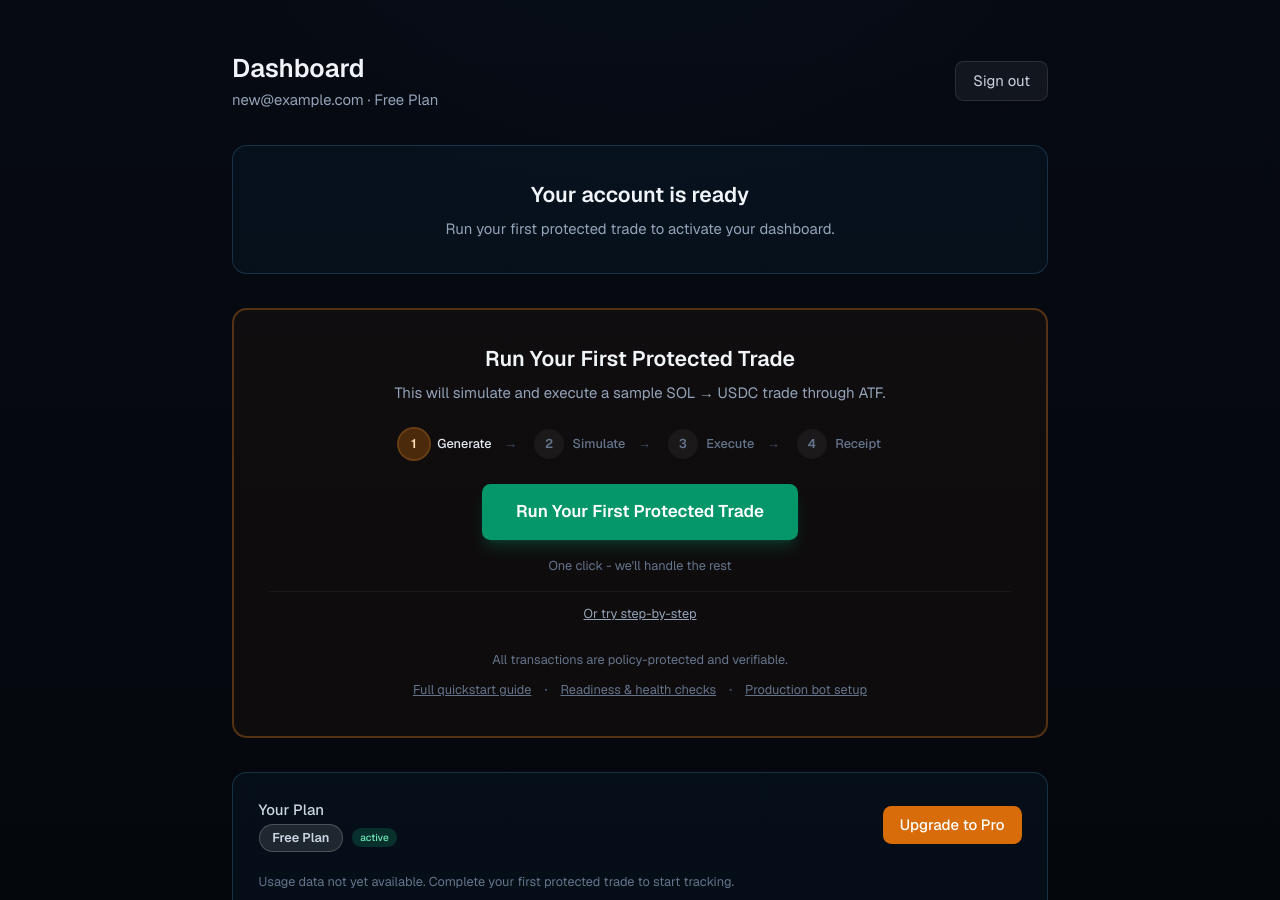
Scenario: First-use UX — error mapping › shows classified rate-limit error
Click the button with test id "generate-btn" at (640, 614), box [584, 605, 696, 622]
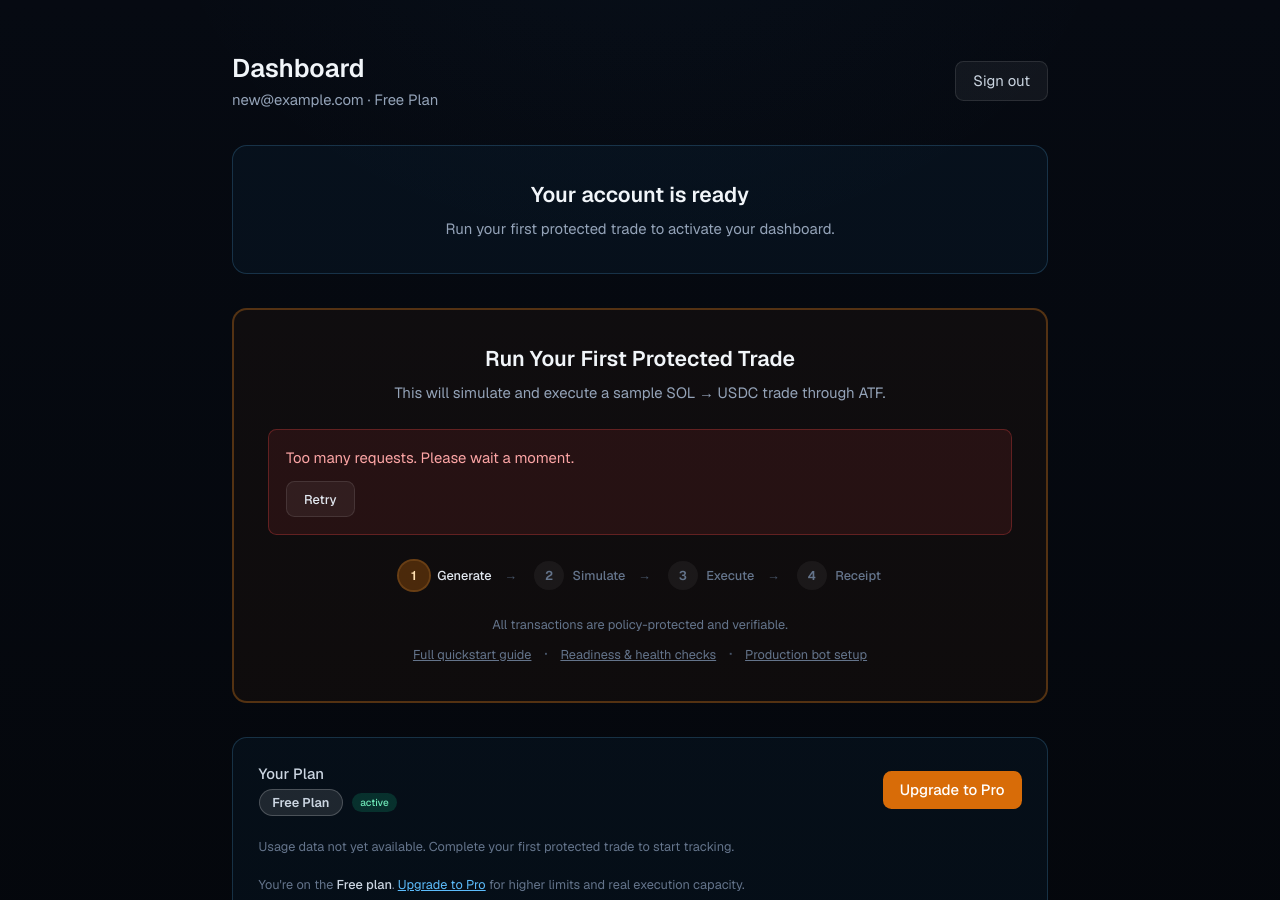
Expected: the text "Too many requests. Please wait a moment." is shown, [286, 448, 574, 467]
